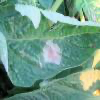Potato leaf late blight: (1, 2, 99, 85)
